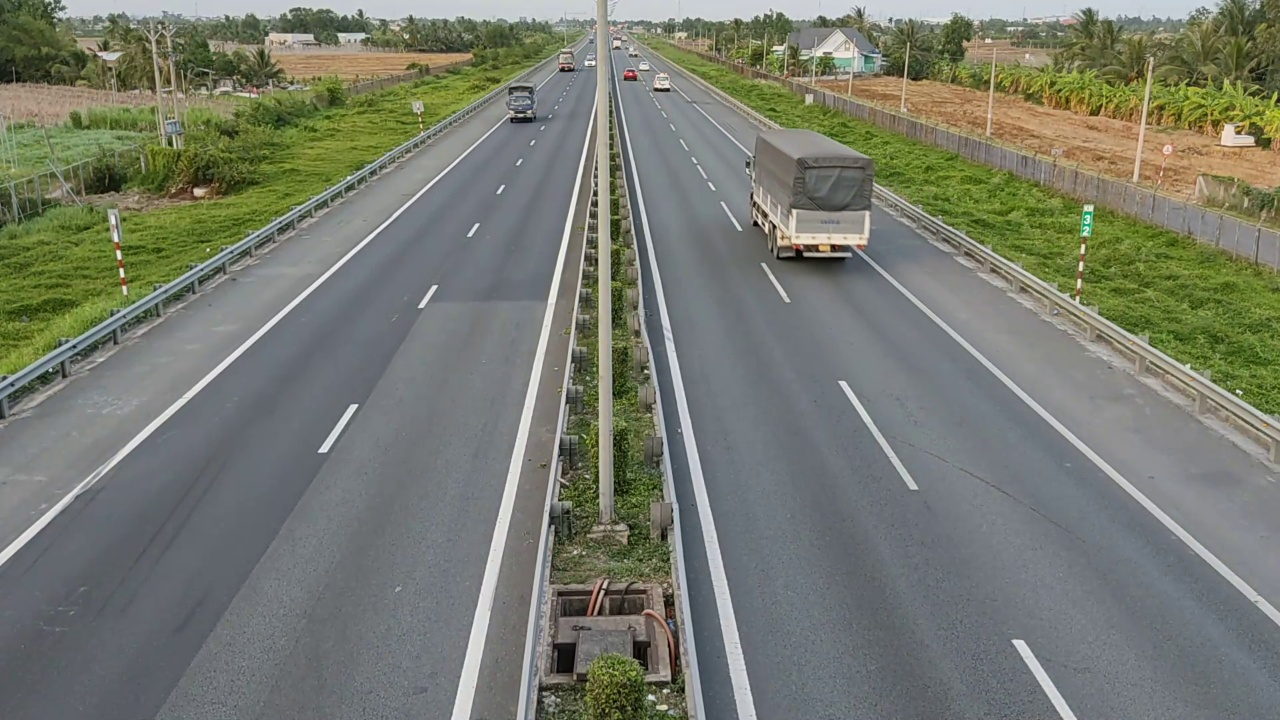car: (653, 72, 673, 91)
truck: (745, 126, 875, 261)
